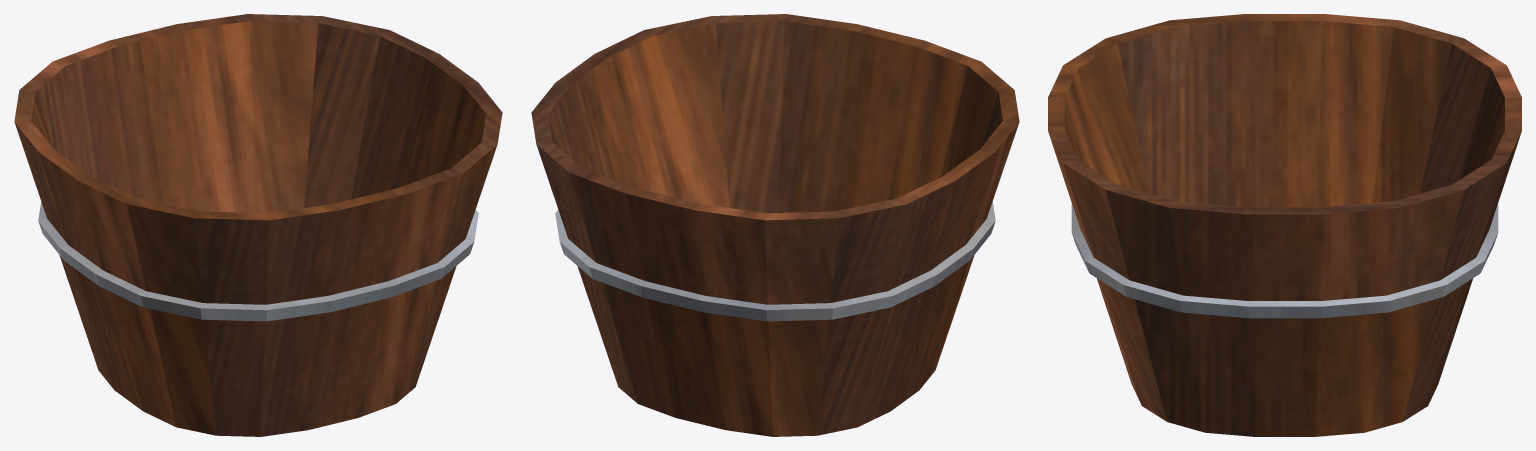
Rendered from washbasin.fbx.
3 renders of one model, left to right at view 1: azimuth 30°, elevation 25°; view 2: azimuth 150°, elevation 25°; view 3: azimuth 270°, elevation 25°, orthographic. The views are drawn at different scales.
Parts seen in each view (by area): view 1: basin; view 2: basin; view 3: basin.
Boxes of the visible parts, x1,y1,x2,y2 form: basin: [14, 14, 502, 436]; basin: [531, 14, 1019, 436]; basin: [1048, 14, 1521, 436].
Size of the model in its own units: 469 by 282 by 469.
